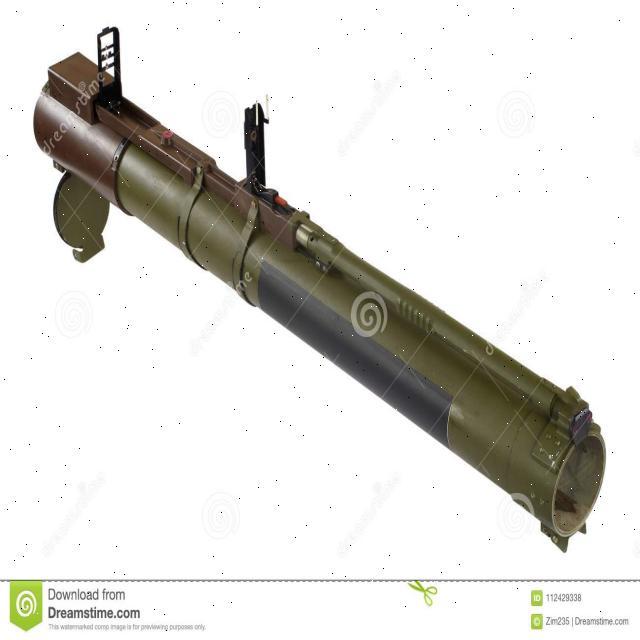bazooka: (25, 18, 620, 567)
